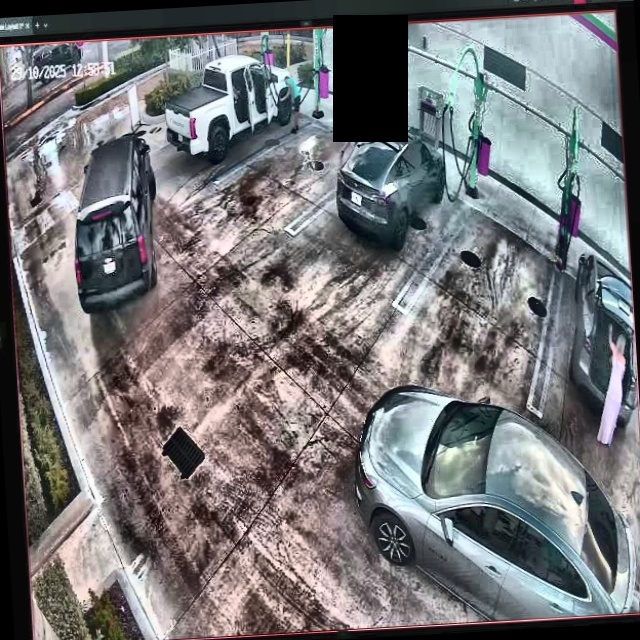Car: (348, 372, 640, 629), (331, 103, 450, 250), (65, 131, 162, 307), (162, 50, 296, 160)
